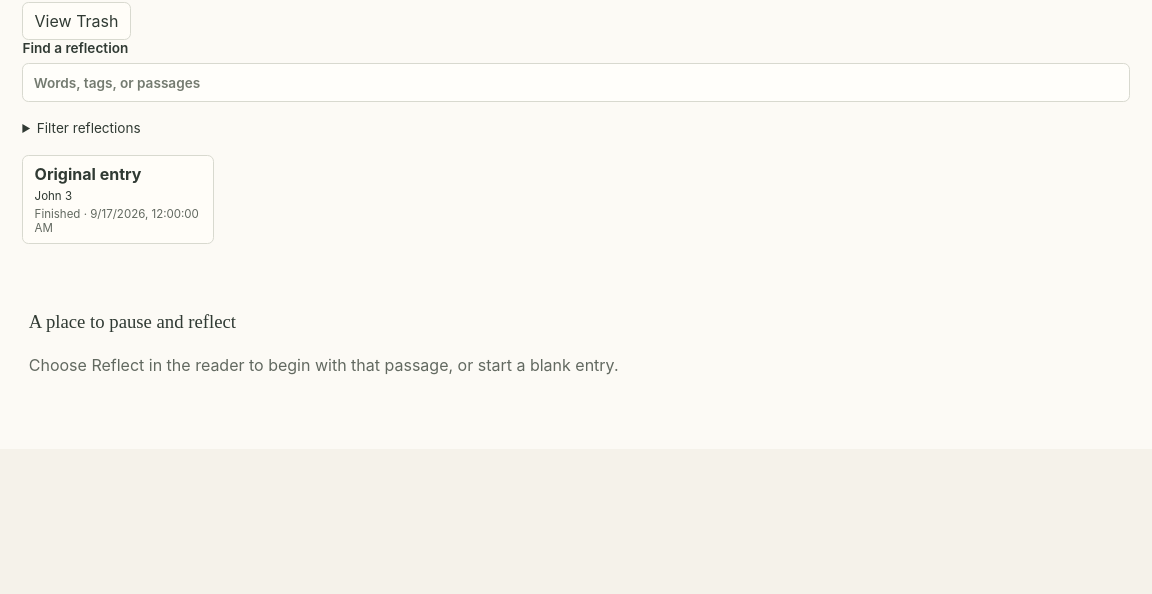
Test case: journal workspace › recovers a stale writer into a new draft and preserves it if recovery fails
This screenshot has width=1152, height=594.
Click the button "Original entry John 3 Finished · 9/17/2026, 12:00:00 AM" at (118, 200), box [22, 155, 214, 244]
(page scrolled)
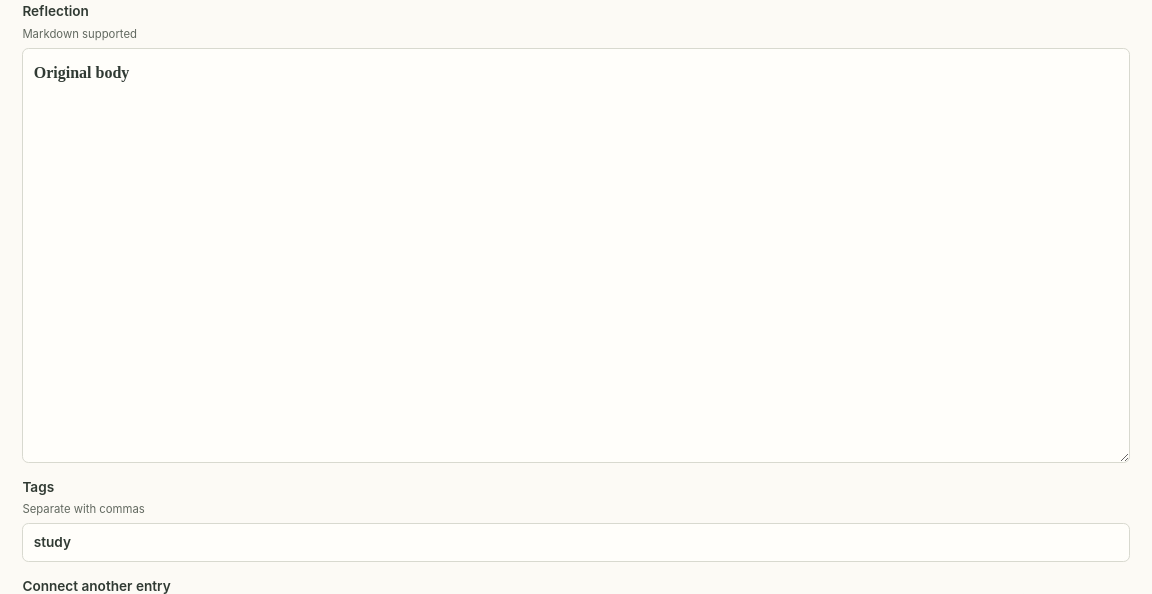
Replace the text in the text box labelled "Reflection Markdown supported" with "My conflicting writing" at (576, 255), box [22, 48, 1130, 463]
(page scrolled)
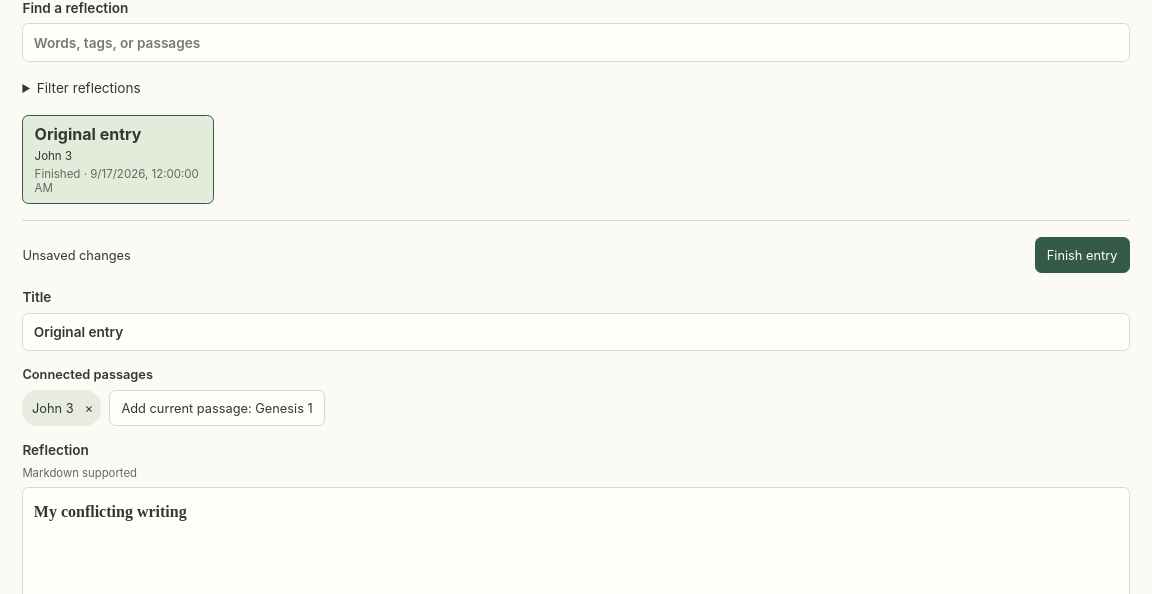
Click the button "Finish entry" at (1082, 256), box [1035, 238, 1130, 274]
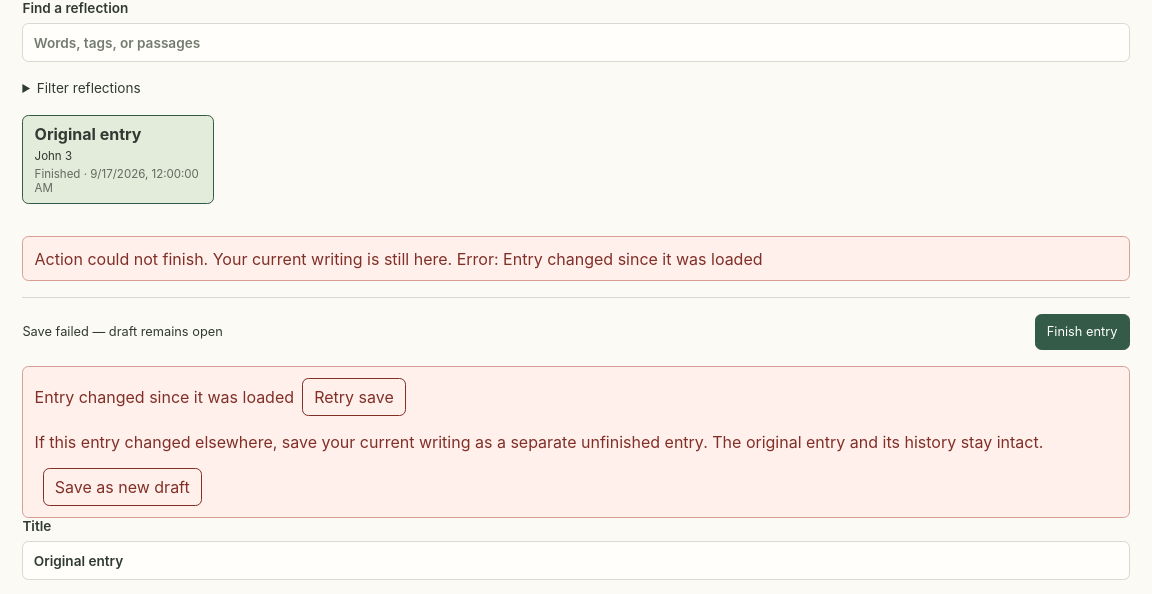
Check: the text "Save failed — draft remains open" is shown, box [22, 324, 223, 339]
Click the button "Save as new draft" at (122, 487), box [43, 468, 202, 506]
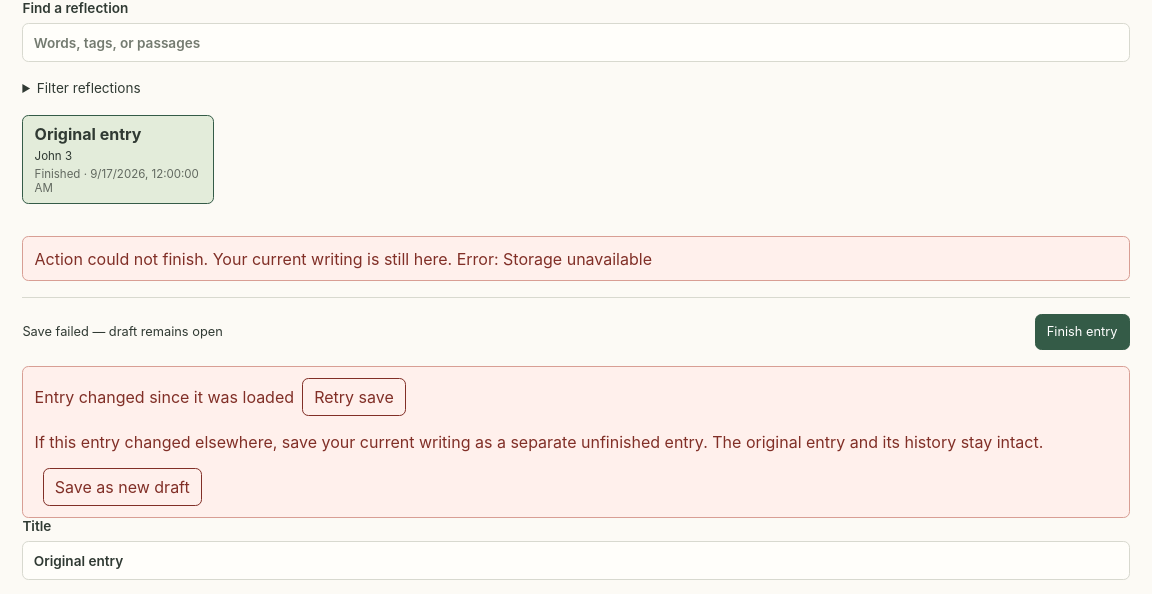
Click the button "Save as new draft" at (122, 487), box [43, 468, 202, 506]
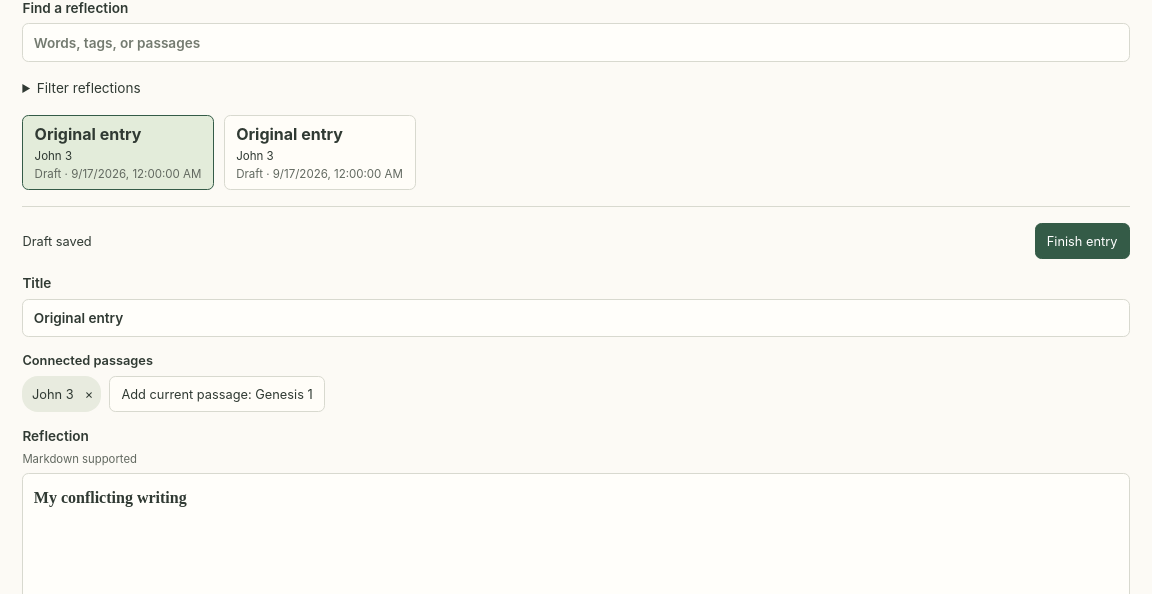
Check: the text "Draft saved" is shown, box [22, 234, 92, 249]
// Reopening the original uses the refreshed competing version, not cached old content.
Click the 2nd button "Original entry John 3 Draft · 9/17/2026, 12:00:00 AM" at (320, 153), box [224, 115, 416, 190]
(page scrolled)
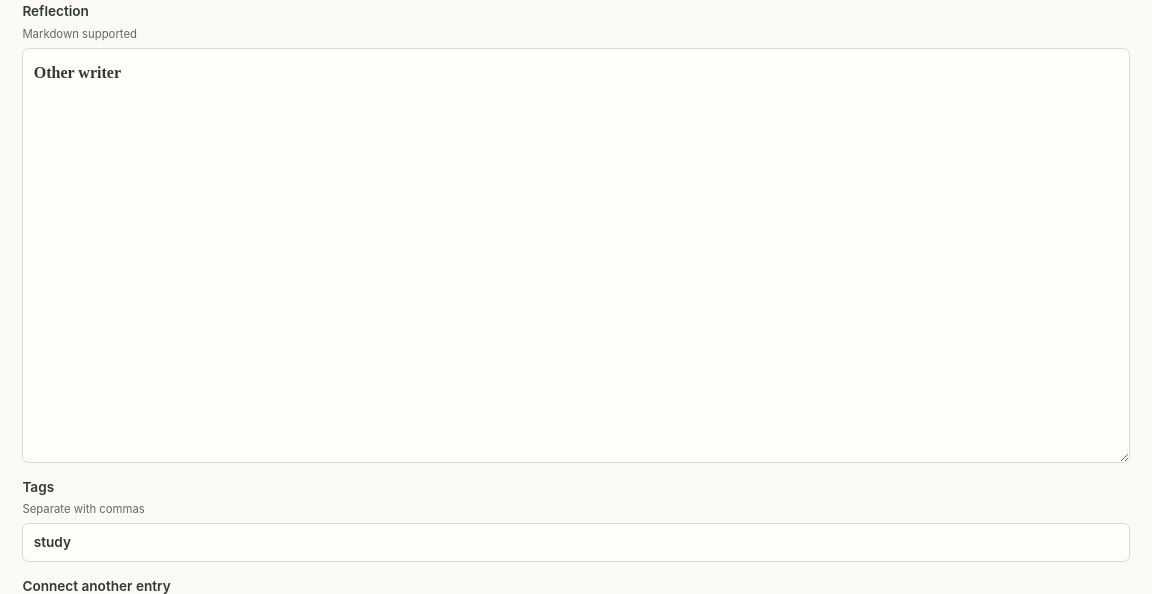
Check: the text box labelled "Reflection Markdown supported" holds "Other writer"
